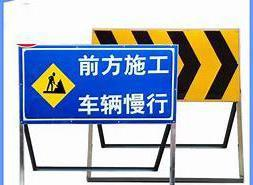sign: (20, 46, 176, 122)
